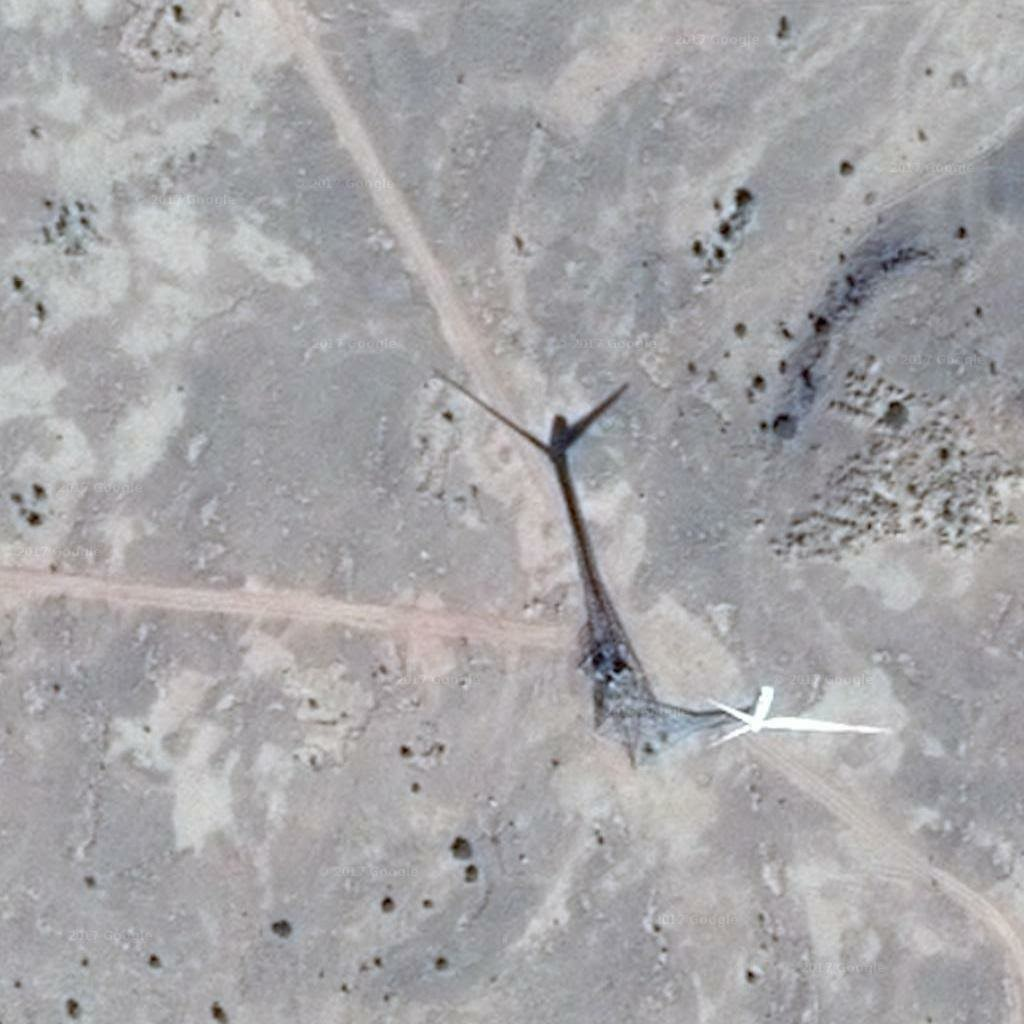Windmill: (430, 364, 654, 669)
